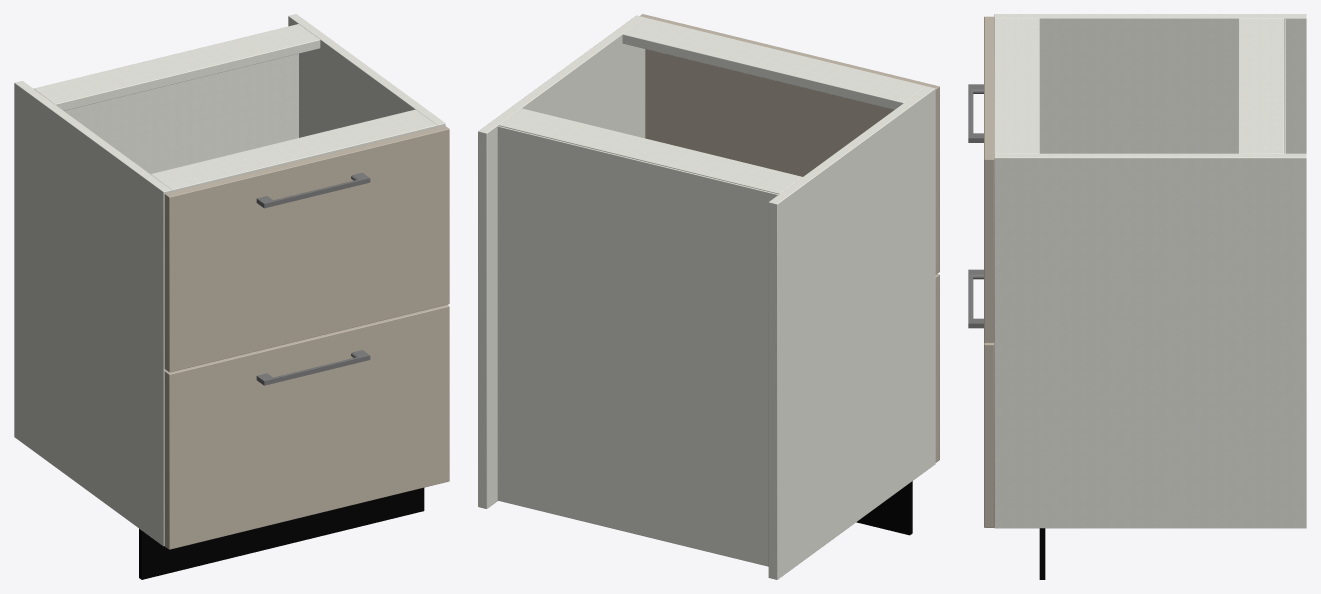
3 views of the same model, side by side, from view 1: azimuth 30°, elevation 25°; view 2: azimuth 150°, elevation 25°; view 3: azimuth 270°, elevation 25° (orthographic). The views are drawn at different scales.
Parts seen in each view (by area): view 1: r24, Stranica Leva, Leđa, Vezna Zadnja H, Stranica Desna, Vezna Prednja H, Union (×2); view 2: Leđa, Stranica Leva, r24, Stranica Desna, Vezna Prednja H, Vezna Zadnja H; view 3: Stranica Desna, Stranica Leva, Vezna Prednja H, Vezna Zadnja H, r24, Union (×2).
Part boxes in pixels (x1=…): r24: x1=139, y1=125, x2=449, y2=579; Stranica Leva: x1=14, y1=81, x2=171, y2=546; Leđa: x1=64, y1=53, x2=298, y2=174; Vezna Zadnja H: x1=34, y1=24, x2=320, y2=110; Stranica Desna: x1=288, y1=14, x2=445, y2=137; Vezna Prednja H: x1=150, y1=109, x2=437, y2=191; Union (×2): x1=256, y1=172, x2=370, y2=385; Leđa: x1=497, y1=126, x2=778, y2=566; Stranica Leva: x1=768, y1=86, x2=935, y2=579; r24: x1=640, y1=14, x2=939, y2=535; Stranica Desna: x1=478, y1=15, x2=645, y2=508; Vezna Prednja H: x1=622, y1=17, x2=926, y2=109; Vezna Zadnja H: x1=498, y1=108, x2=802, y2=194; Stranica Desna: x1=994, y1=153, x2=1306, y2=528; Stranica Leva: x1=994, y1=14, x2=1306, y2=153; Vezna Prednja H: x1=994, y1=18, x2=1039, y2=153; Vezna Zadnja H: x1=1238, y1=18, x2=1283, y2=153; r24: x1=984, y1=16, x2=1045, y2=579; Union (×2): x1=968, y1=84, x2=983, y2=328.
Size of the model in its own units: 0.6 by 0.82 by 0.596.
4 materials, 2 textured.
